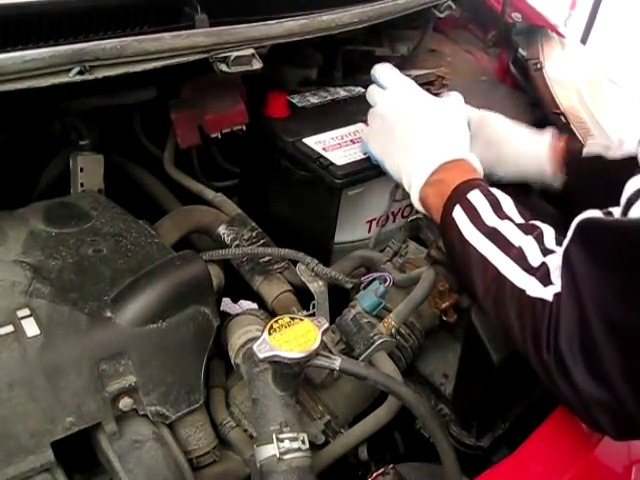battery: (247, 82, 392, 180)
pos_disconnected: (166, 87, 310, 155)
